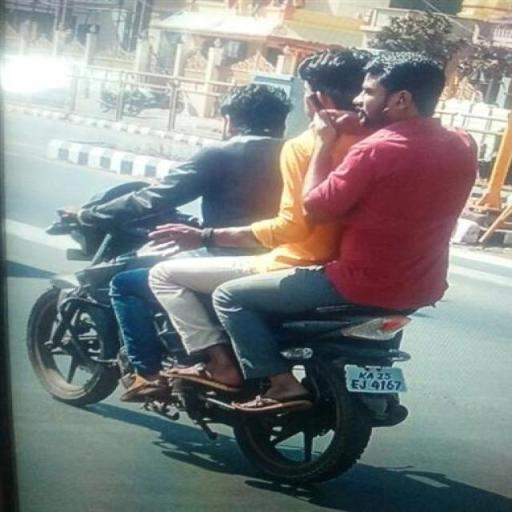tripple riding: (37, 44, 491, 300)
